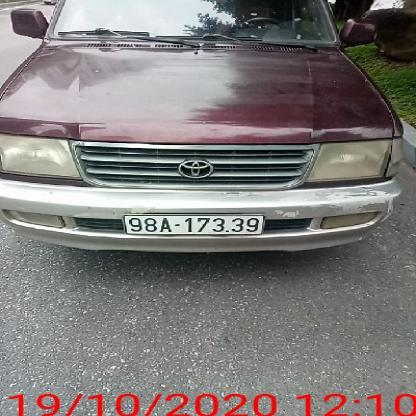biensoxe: (120, 206, 274, 244)
